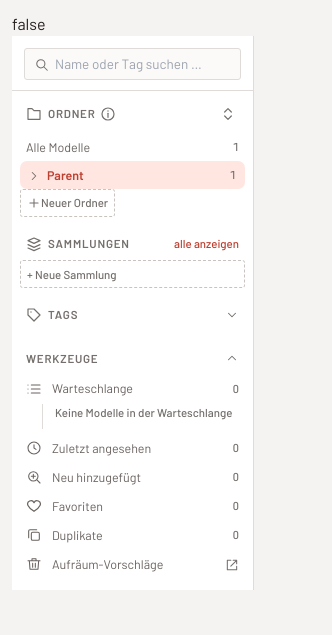
Test: toggles both folder locations and preserves the selected folder
What coordinates should you click on to do the following:
click the button named "Alle Ordner zuklappen"
I would click on:
 (228, 114)
Its box is left=217, top=103, right=239, bottom=125.
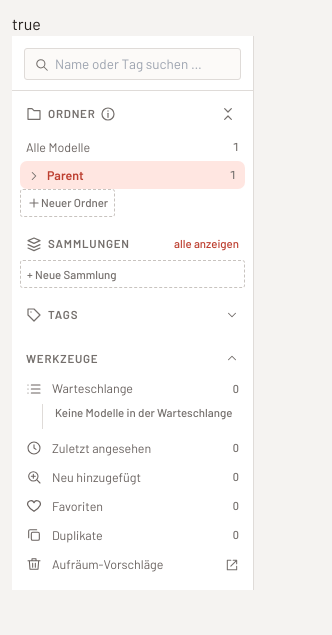
Expected: the text "Child" is not shown
Expected: the text with test id "group-state" reads "true", left=12, top=14, right=41, bottom=33
What coordinates should you click on to do the following:
click the button named "Alle Ordner aufklappen"
I would click on:
 (228, 114)
Its box is left=217, top=103, right=239, bottom=125.
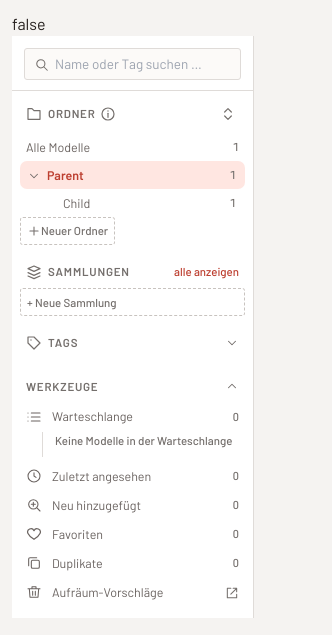
Expected: the text "Child" is shown, left=63, top=195, right=90, bottom=211
Expected: the text with test id "group-state" reads "false", left=12, top=14, right=46, bottom=33
